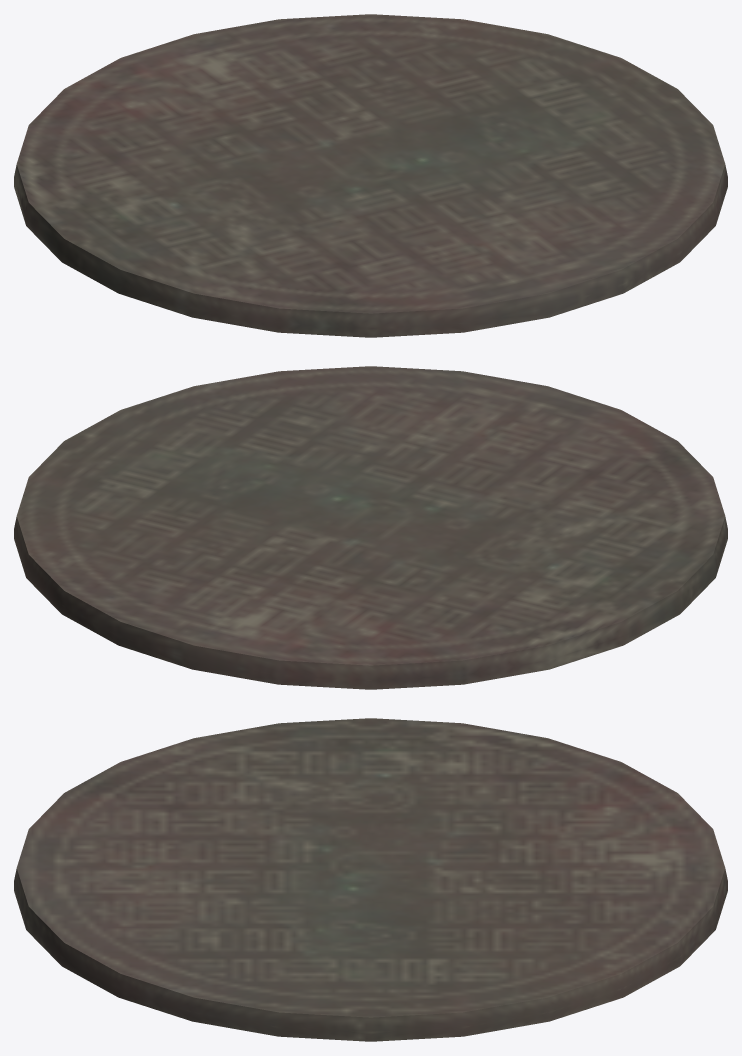
The model's file is prop_manholecover.glb.
3 renders of one model, top to bottom at view 1: azimuth 30°, elevation 25°; view 2: azimuth 150°, elevation 25°; view 3: azimuth 270°, elevation 25°, orthographic.
Visible parts, largest first — view 1: Prop_ManholeCover; view 2: Prop_ManholeCover; view 3: Prop_ManholeCover.
Boxes of the visible parts, bbox=[...] form: Prop_ManholeCover: bbox=[14, 14, 727, 337]; Prop_ManholeCover: bbox=[14, 366, 727, 689]; Prop_ManholeCover: bbox=[14, 718, 727, 1041].
Size of the model in its own units: 0.9251 by 0.033 by 0.9251.
1 material, 1 textured.
